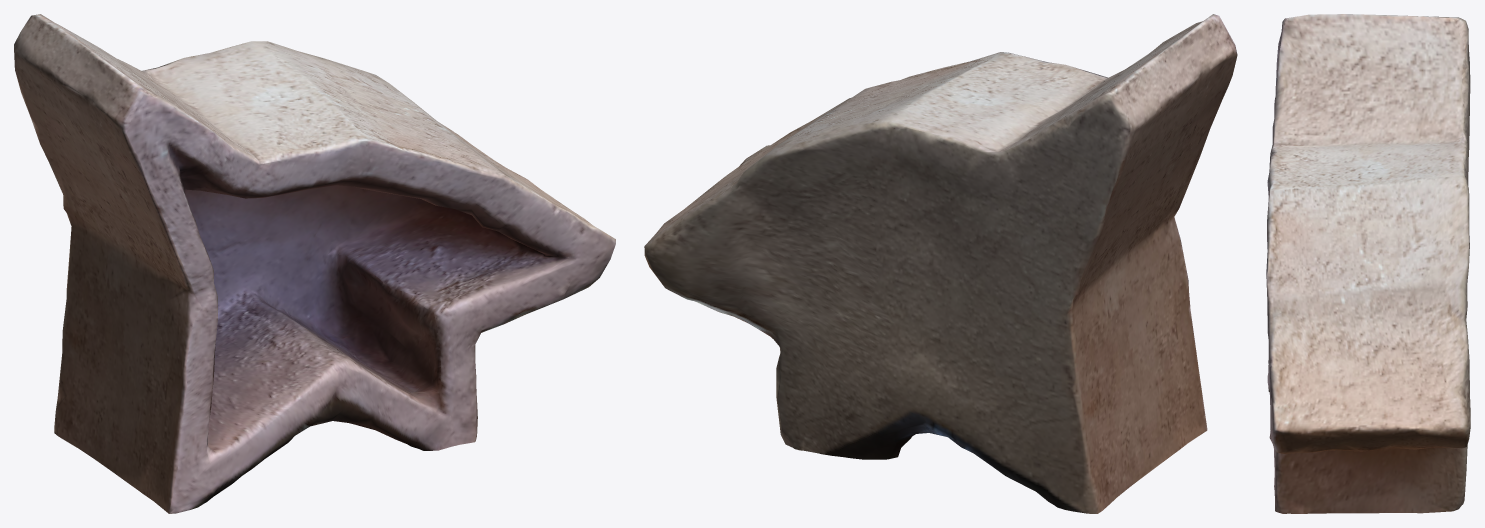
The model's file is clay.gltf.
3 renders of one model, left to right at view 1: azimuth 30°, elevation 25°; view 2: azimuth 150°, elevation 25°; view 3: azimuth 270°, elevation 25°, orthographic. The views are drawn at different scales.
Visible parts, largest first — view 1: 3DModel_LowPoly; view 2: 3DModel_LowPoly; view 3: 3DModel_LowPoly.
Boxes of the visible parts, x1,y1,x2,y2 form: 3DModel_LowPoly: [14, 14, 615, 513]; 3DModel_LowPoly: [644, 14, 1237, 513]; 3DModel_LowPoly: [1266, 14, 1470, 513].
Size of the model in its own units: 2.54 by 2.12 by 1.08.
Materials: 1 (1 with a texture image).
